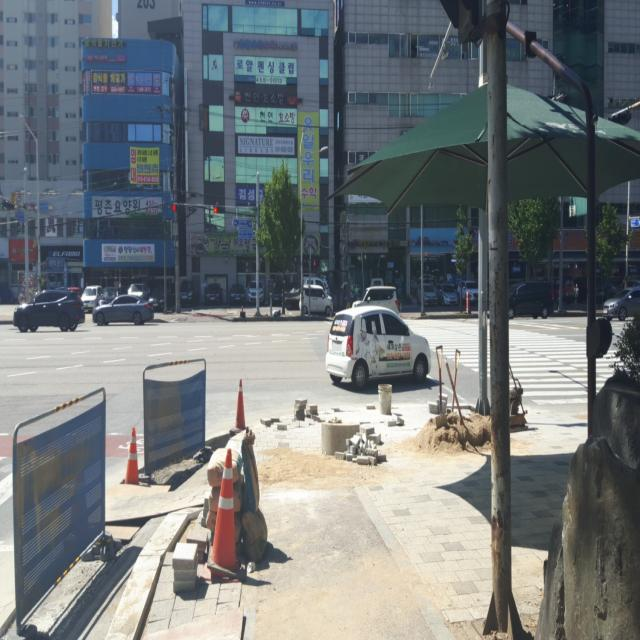빨간불: (312, 260, 316, 274)
횡단보도: (401, 316, 629, 404)
